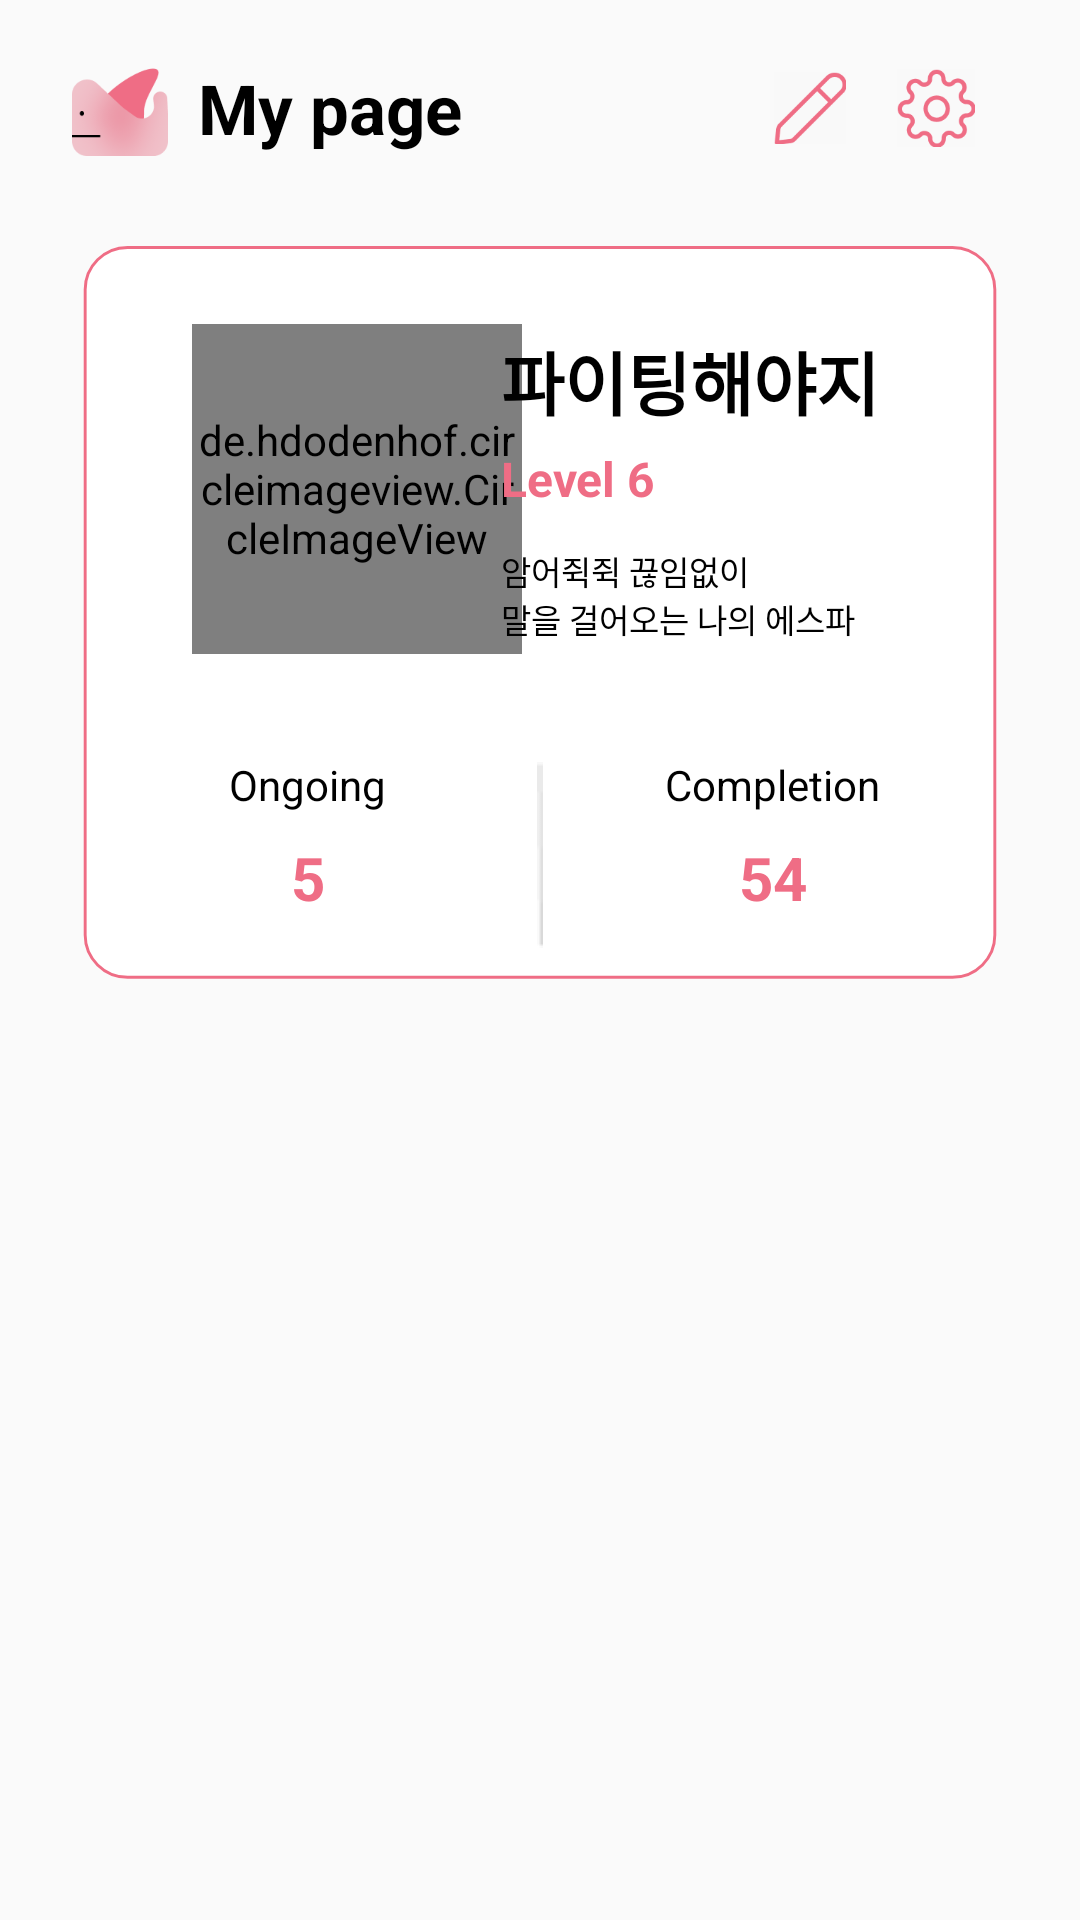

Point at icon controls on the screen. Image size 1080*1920, points as [x,y].
mypage edit: [810,108]
mypage setting: [936,108]
